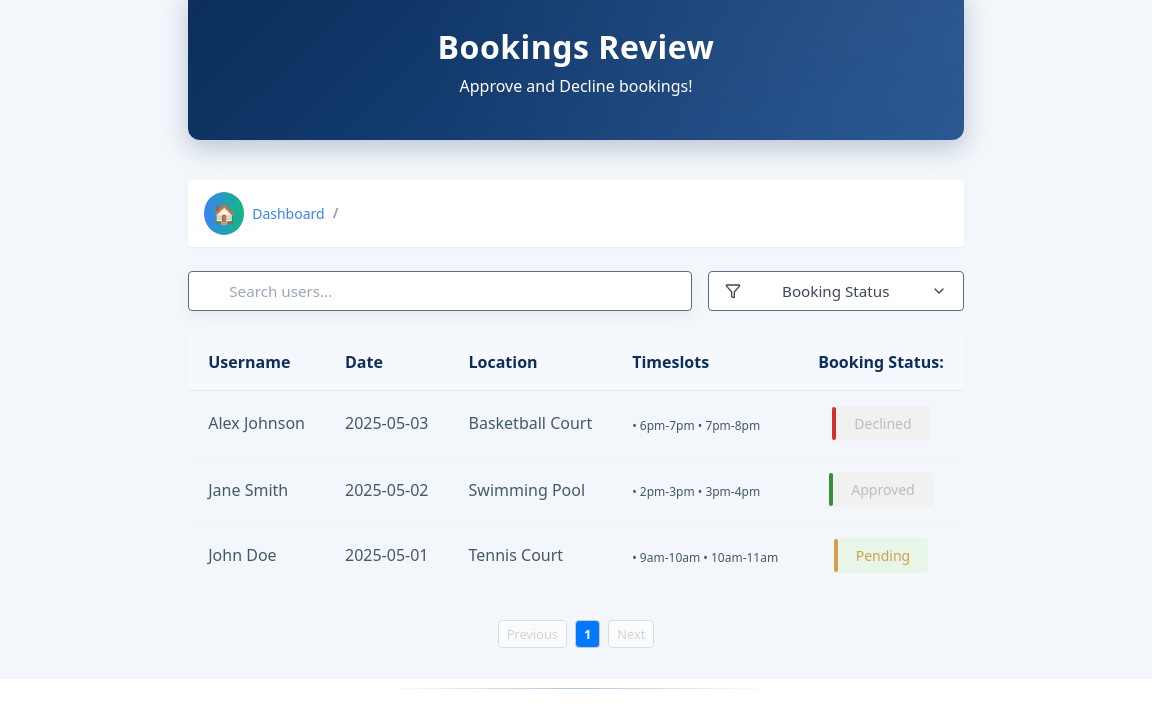
BookingsPage Component › searches bookings by user name
The width and height of the screenshot is (1152, 715).
(page scrolled)
Expected: the text "John Doe" is shown, [188,523,325,588]
// Search for 'Jane'
Type "Jane" into the field with placeholder "Search users...". click: x=440, y=291
box: [188,271,692,311]
(page scrolled)
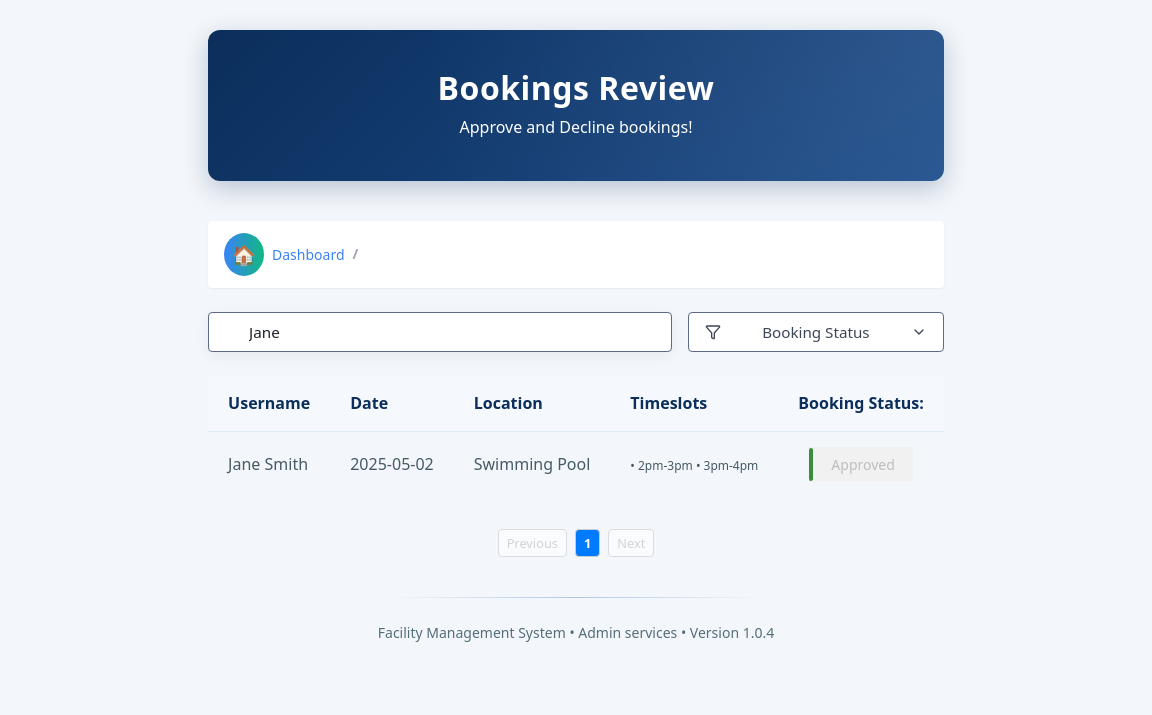
Expected: the text "Jane Smith" is shown, [208,432,330,497]
Result: the text "John Doe" is gone
Result: the text "Alex Johnson" is gone
